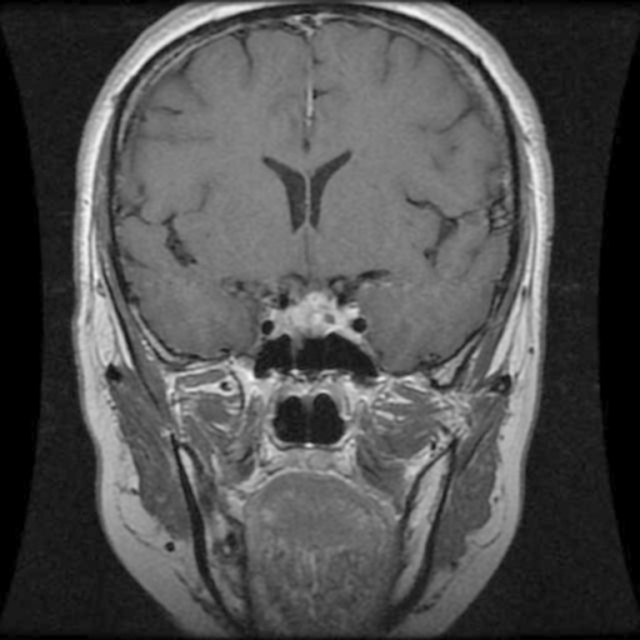no tumor: (294, 291, 362, 350)
